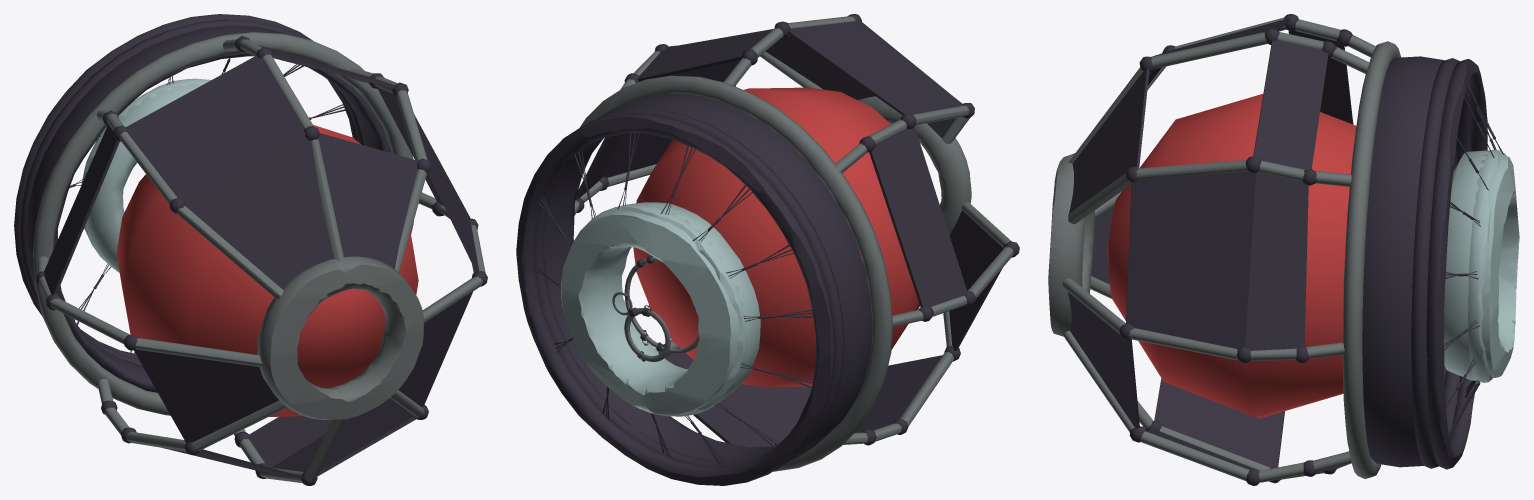
Rendered from LAser Catcher.fbx.
3 views of the same model, side by side, from view 1: azimuth 30°, elevation 25°; view 2: azimuth 150°, elevation 25°; view 3: azimuth 270°, elevation 25° (orthographic). The views are drawn at different scales.
Parts seen in each view (by area): view 1: pSphere76; view 2: pSphere76; view 3: pSphere76.
Boxes of the visible parts, x1,y1,x2,y2 form: pSphere76: (14, 14, 487, 485); pSphere76: (516, 14, 1019, 485); pSphere76: (1048, 14, 1519, 485).
Size of the model in its own units: 156 by 159 by 150.
